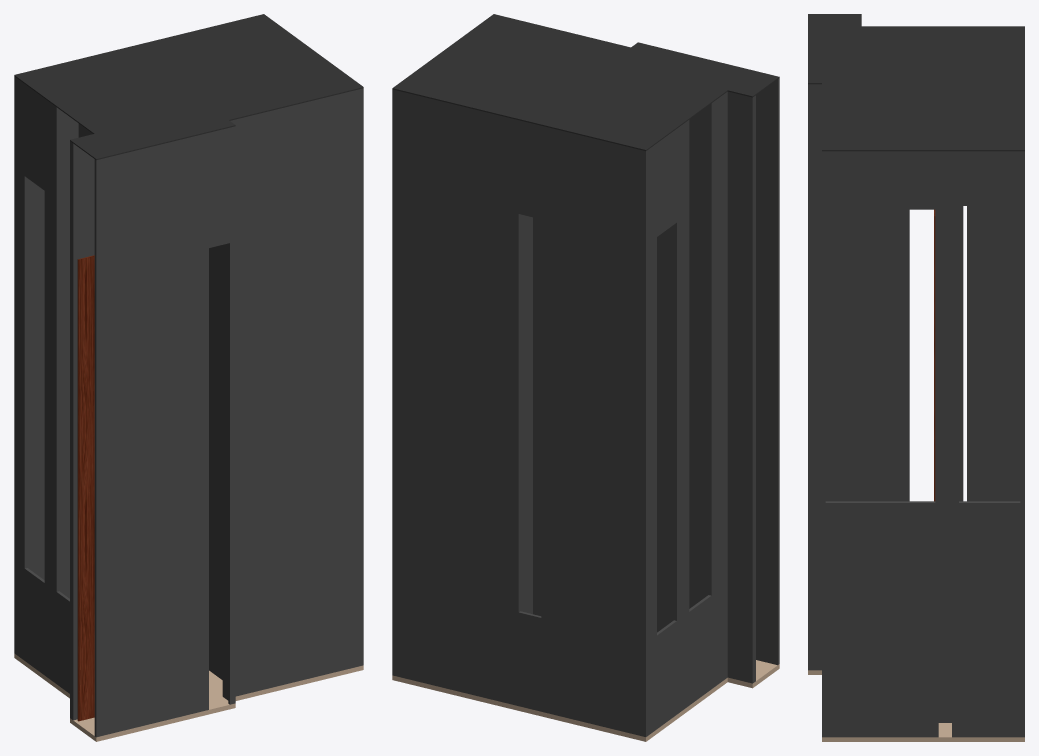
Rendered from house.obj.
3 renders of one model, left to right at view 1: azimuth 30°, elevation 25°; view 2: azimuth 150°, elevation 25°; view 3: azimuth 270°, elevation 25°, orthographic.
Size of the model in its own units: 12442 by 25250 by 8385.
